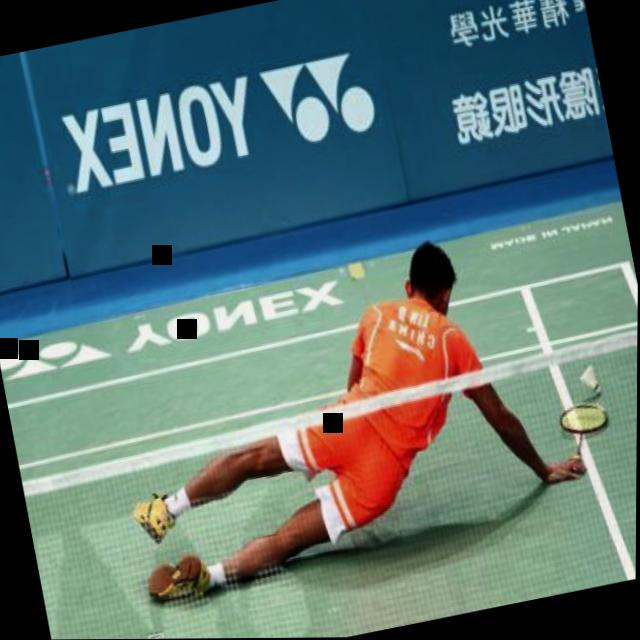Fall-Detected: (98, 204, 606, 624)
